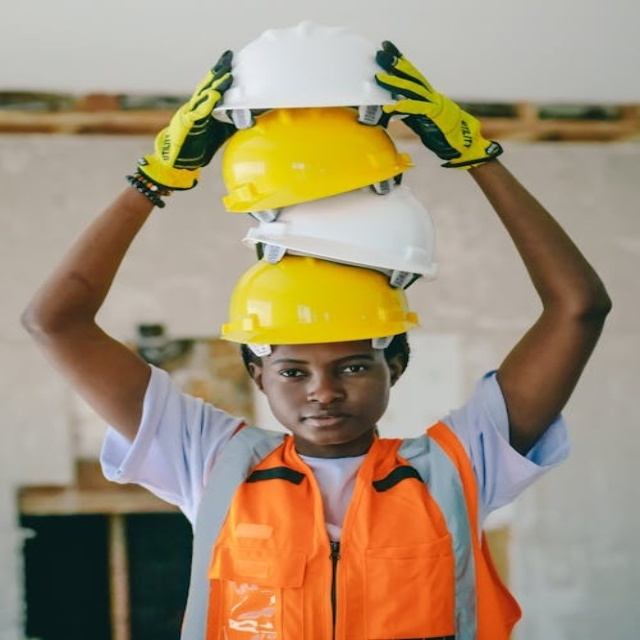Guantes: (125, 50, 241, 204), (370, 44, 502, 170)
Sin_gafas: (268, 352, 370, 386)
Sin_mascara: (291, 406, 358, 442)
